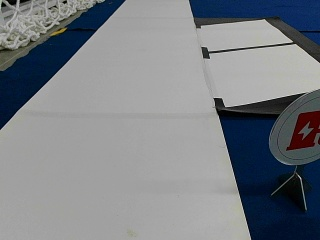battery: (269, 90, 320, 166)
